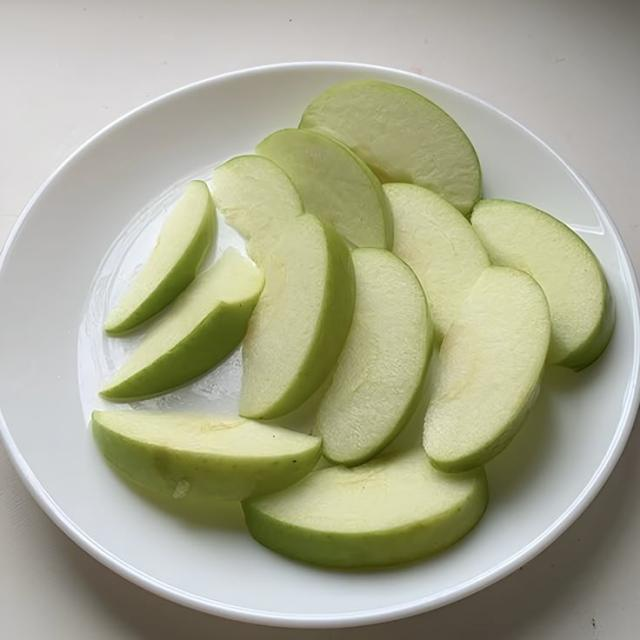apple: (243, 450, 487, 567), (424, 267, 550, 472), (315, 248, 433, 466), (100, 249, 264, 400), (300, 80, 480, 214), (472, 200, 614, 369), (240, 214, 354, 418), (93, 411, 320, 502), (105, 181, 216, 334), (256, 129, 393, 248), (384, 184, 489, 339), (213, 155, 303, 263)
